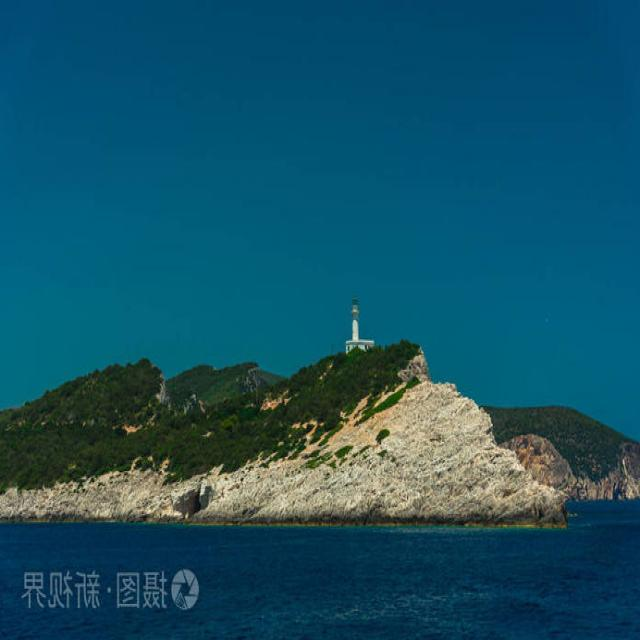reef: (238, 463, 563, 534)
